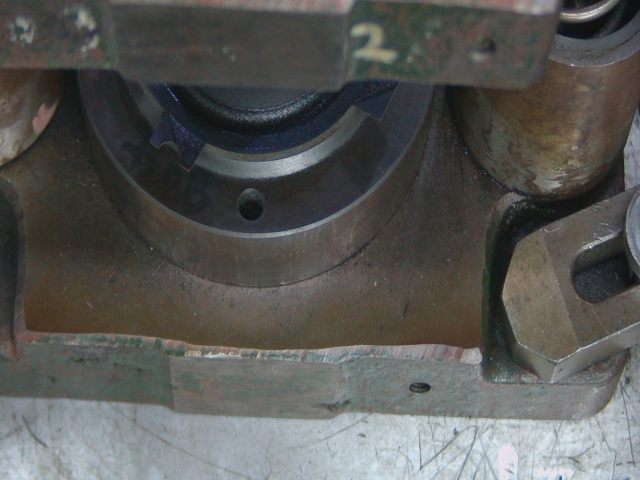OK: (150, 111, 215, 179)
